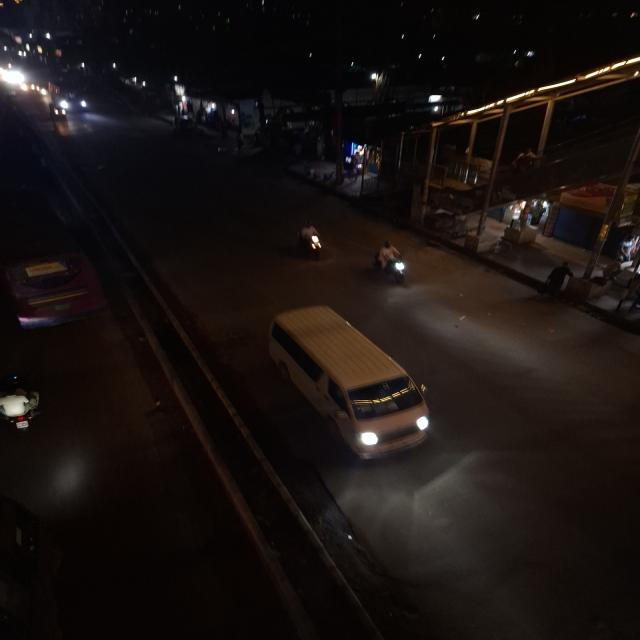bus: (0, 178, 104, 334)
motorcycle: (0, 372, 45, 438), (368, 238, 416, 290), (293, 213, 327, 263)
truck: (260, 301, 441, 467)
